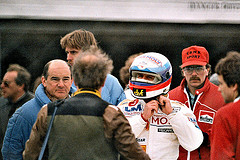helmet: (129, 54, 176, 100)
